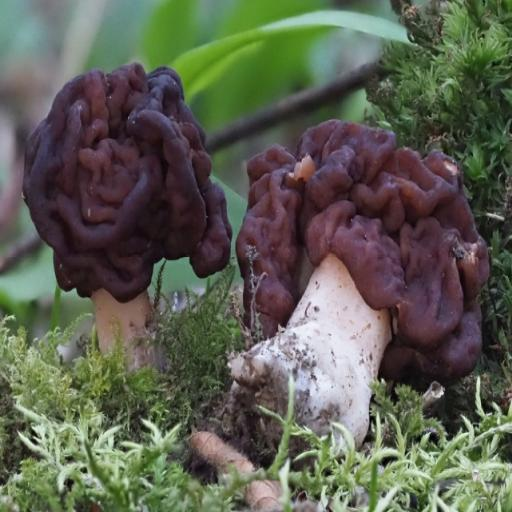False Morel: (234, 122, 487, 469), (7, 48, 256, 359)
